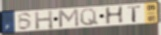6: (17, 12, 33, 31)
H: (103, 5, 125, 26), (34, 9, 55, 31)
M: (57, 8, 81, 29)
Q: (79, 7, 100, 27)
T: (127, 5, 143, 23)
